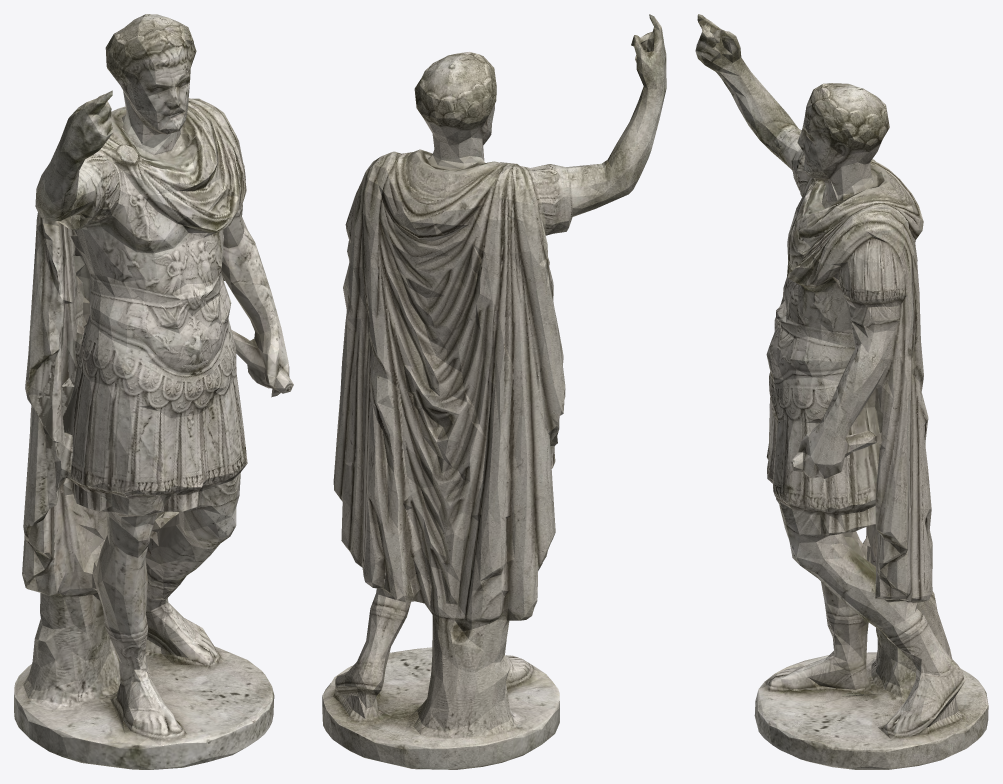
Rendered from statue.glb.
The picture shows the model from 3 angles, left to right: view 1: azimuth 30°, elevation 25°; view 2: azimuth 150°, elevation 25°; view 3: azimuth 270°, elevation 25°; orthographic projection. The views are drawn at different scales.
Parts seen in each view (by area): view 1: lo; view 2: lo; view 3: lo.
Part boxes in pixels (box(x1,y1,x2,y2)): lo: box(14, 14, 293, 769); lo: box(322, 14, 666, 769); lo: box(695, 14, 988, 769).
Size of the model in its own units: 0.3981 by 0.9967 by 0.406.
1 material, 1 textured.
